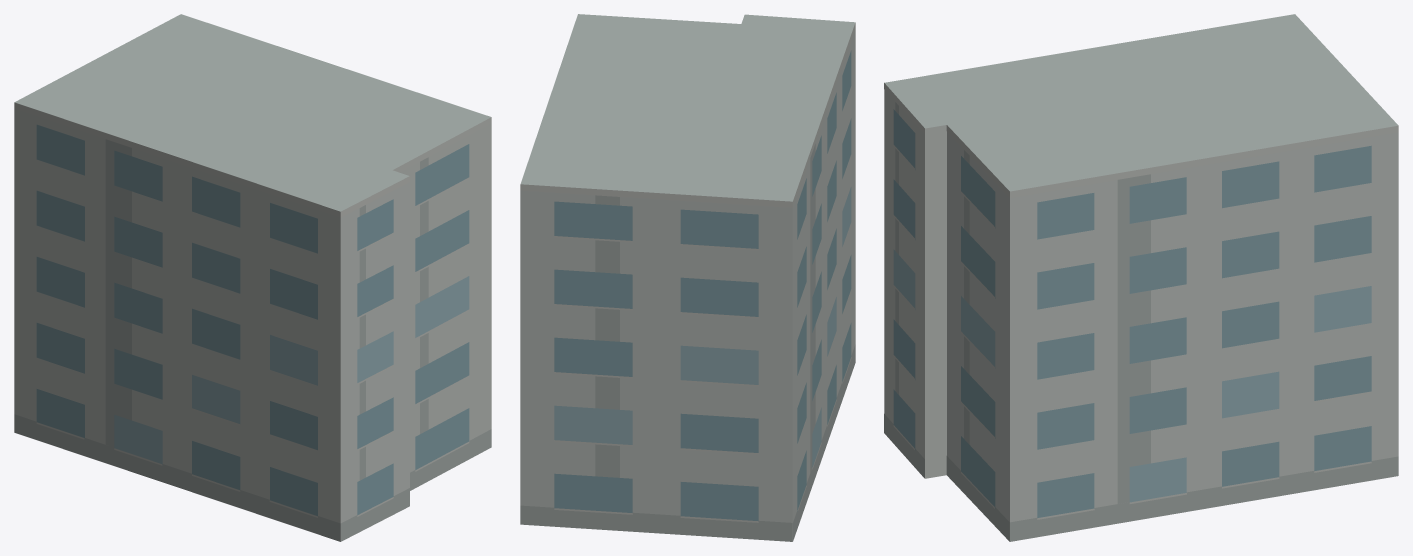
Rendered from survey-upis-32995925.glb.
3 renders of one model, left to right at view 1: azimuth 30°, elevation 25°; view 2: azimuth 150°, elevation 25°; view 3: azimuth 270°, elevation 25°, orthographic. The views are drawn at different scales.
Parts seen in each view (by area): view 1: survey-upis-32995925.tmp; view 2: survey-upis-32995925.tmp; view 3: survey-upis-32995925.tmp.
Boxes of the visible parts, x1,y1,x2,y2 form: survey-upis-32995925.tmp: [14, 14, 491, 541]; survey-upis-32995925.tmp: [520, 14, 855, 541]; survey-upis-32995925.tmp: [884, 14, 1398, 541].
Bounding box in the file's own units: 14.14 × 13 × 17.31.
